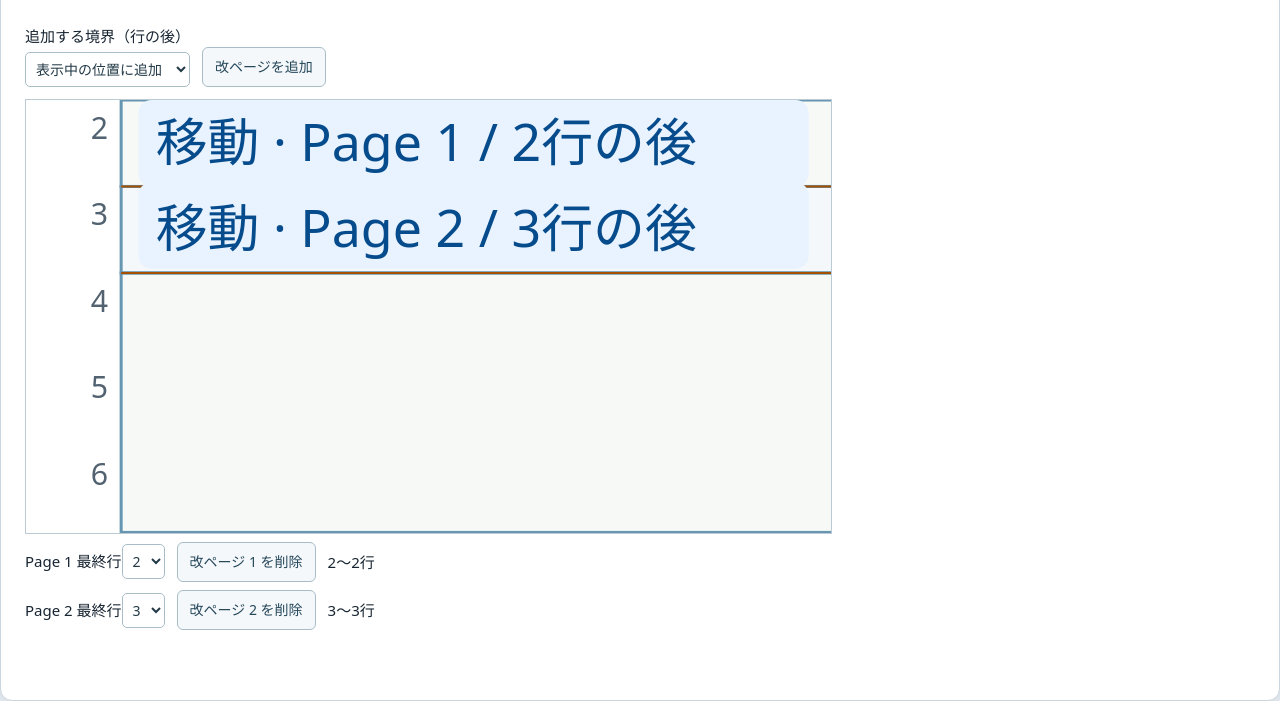
印刷ページ編集 › adds and deletes boundaries and saves a server revision
Earlier steps of the test are not shown.
(page scrolled)
expect the dropdown labelled "Page 2 最終行" is shown: met, box [122,593,165,628]
Click the button "改ページ 2 を削除". click: (246, 610)
box: [177,590,316,630]
(page scrolled)
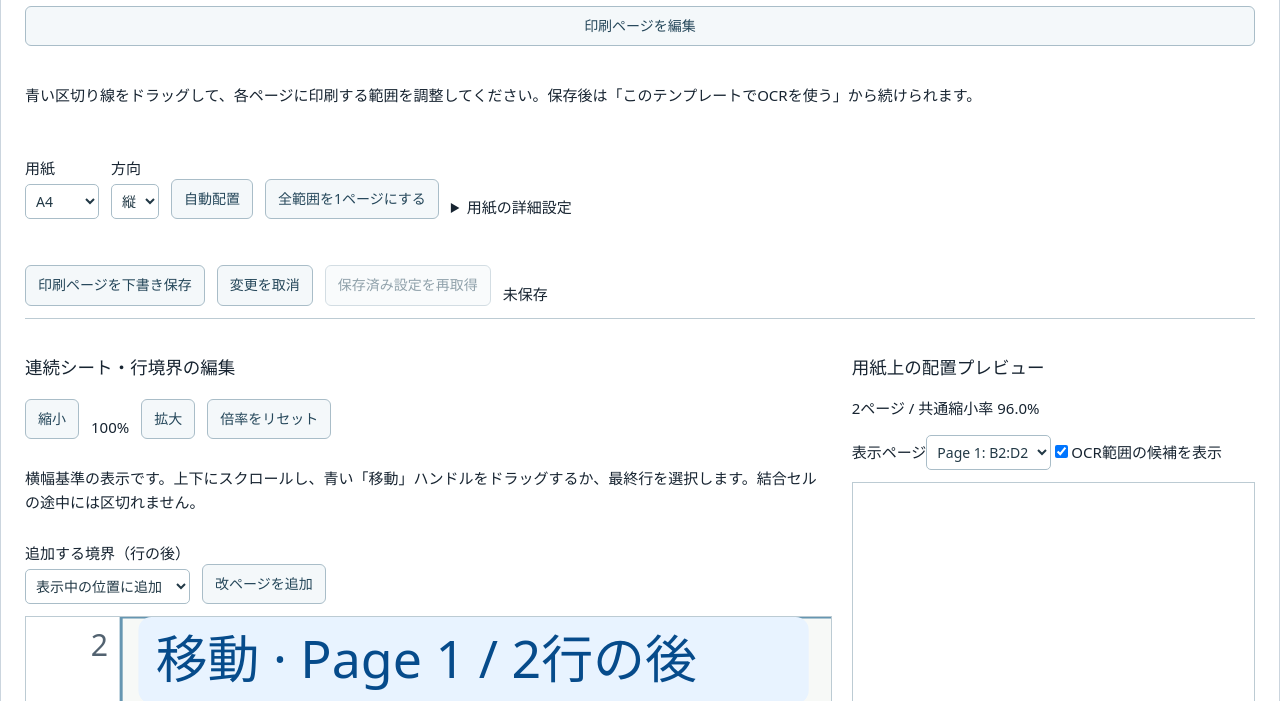
expect the label labelled "Page 2 最終行" is gone: met
expect the text "2ページ / 共通縮小率 96.0%" is shown: met, box [852,398,1040,418]
Click the button "印刷ページを下書き保存". click: (115, 286)
box: [25,265,205,306]
(page scrolled)
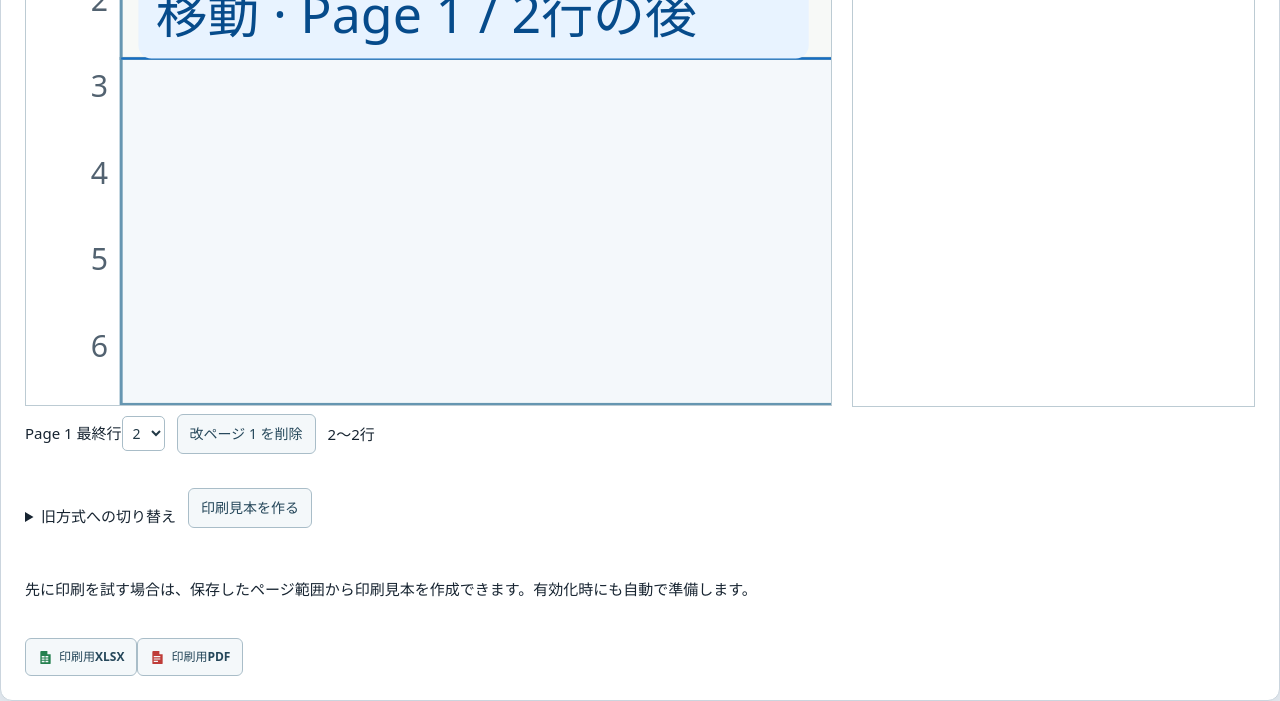
expect the heading "旧方式への切り替え" is shown: met
Click the heading "旧方式への切り替え". click: (100, 516)
box: [25,504,176,528]
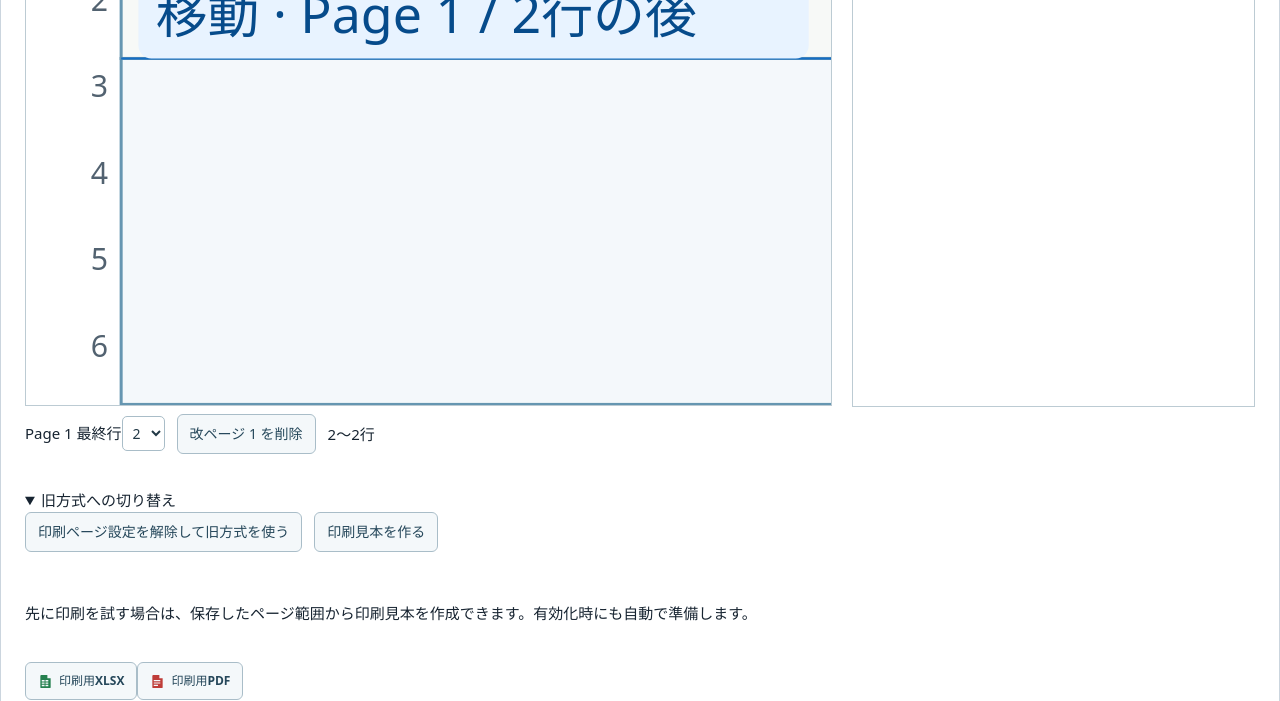
expect the button "印刷用XLSX" is enabled: met, box [25,662,137,700]
Select "5" in the dropdown labelled "Page 1 最終行". click: (143, 434)
box: [122,416,165,451]
(page scrolled)
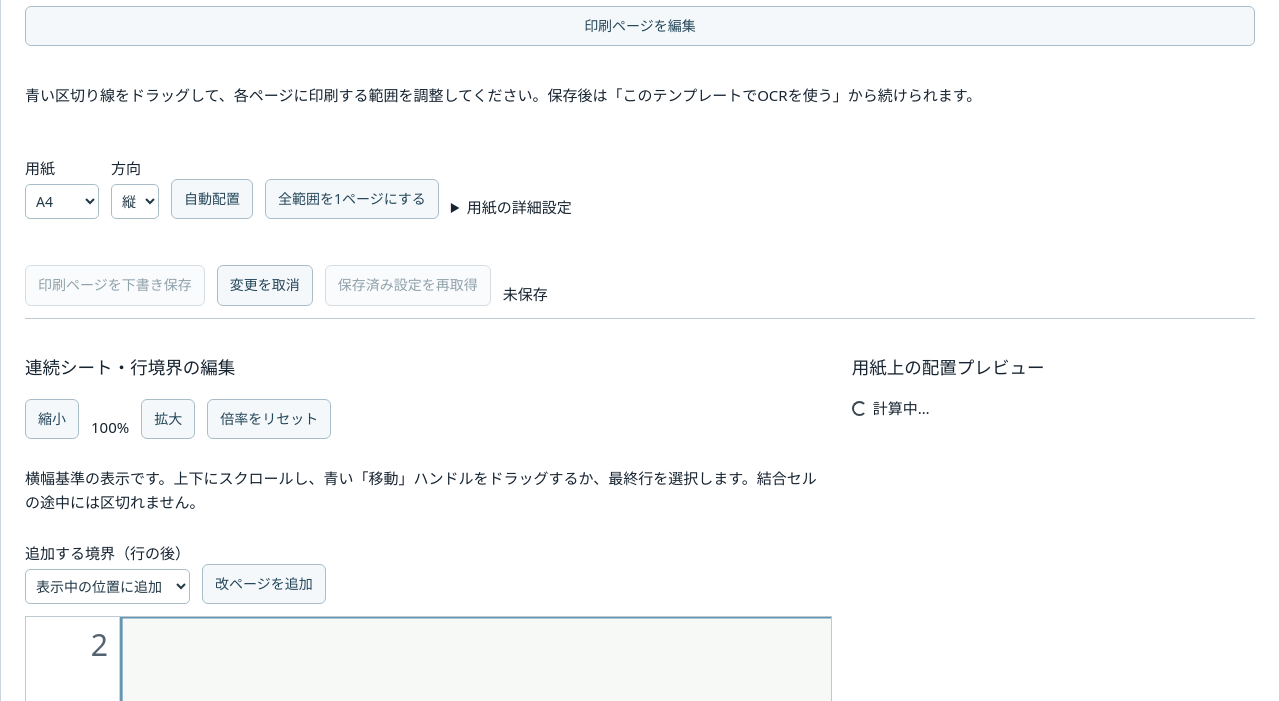
Click the button "変更を取消". click: (265, 286)
box: [217,265,313,306]
(page scrolled)
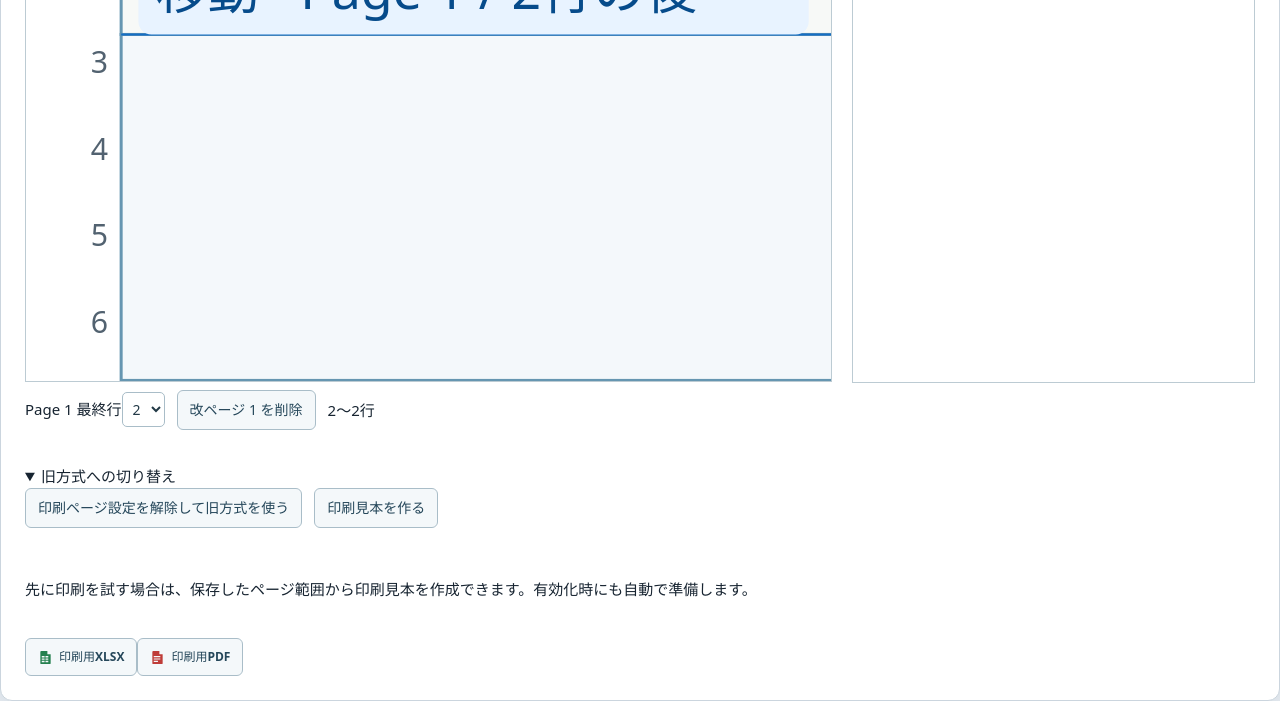
Click the button "印刷ページ設定を解除して旧方式を使う". click: (164, 508)
box: [25,488,302,528]
(page scrolled)
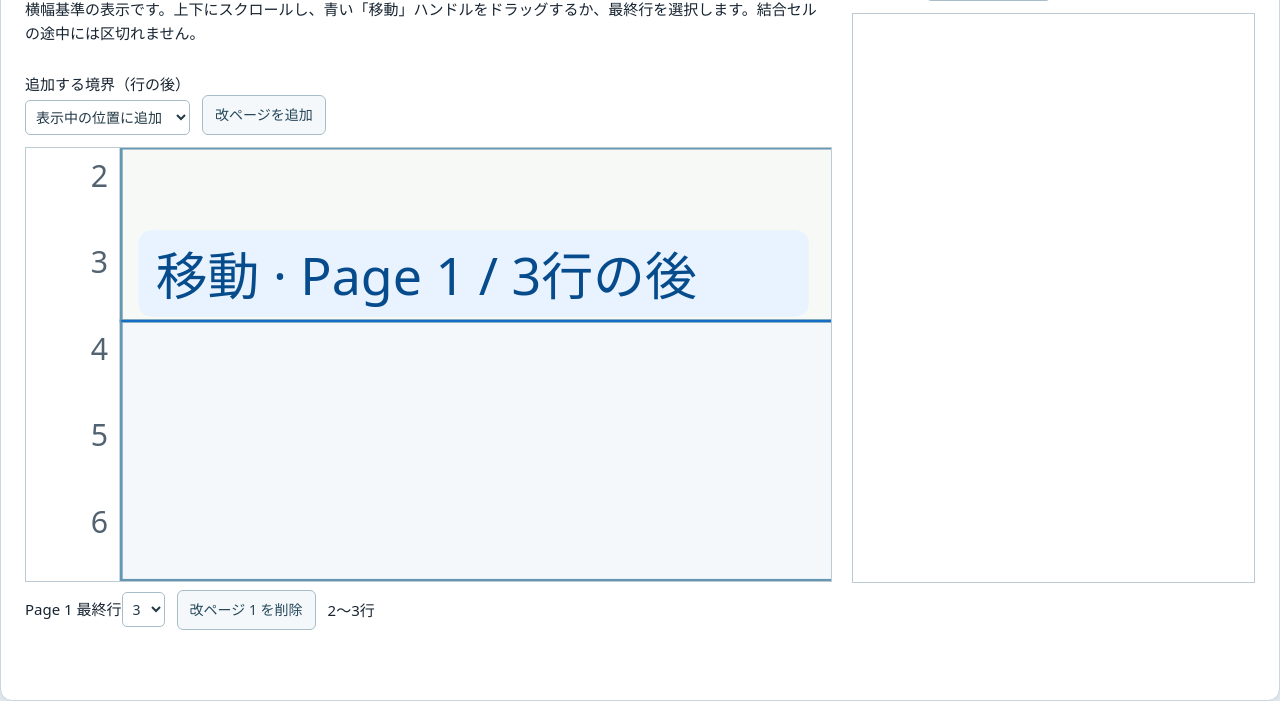
expect the button "印刷用XLSX" is gone: met
